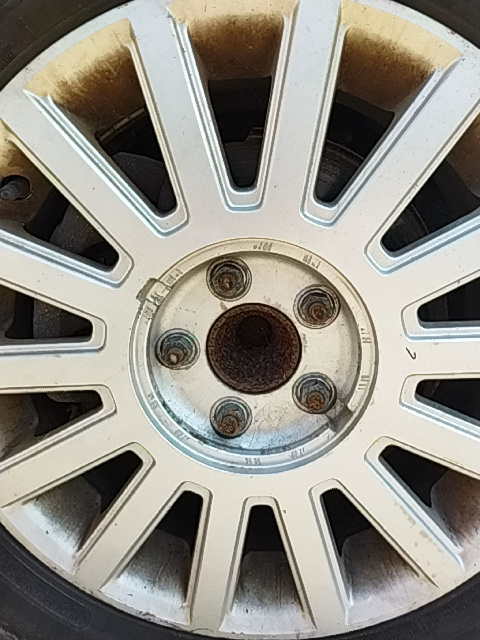l: (278, 268, 348, 336), (286, 365, 345, 425), (146, 313, 200, 378), (200, 243, 256, 305), (205, 394, 255, 448)
